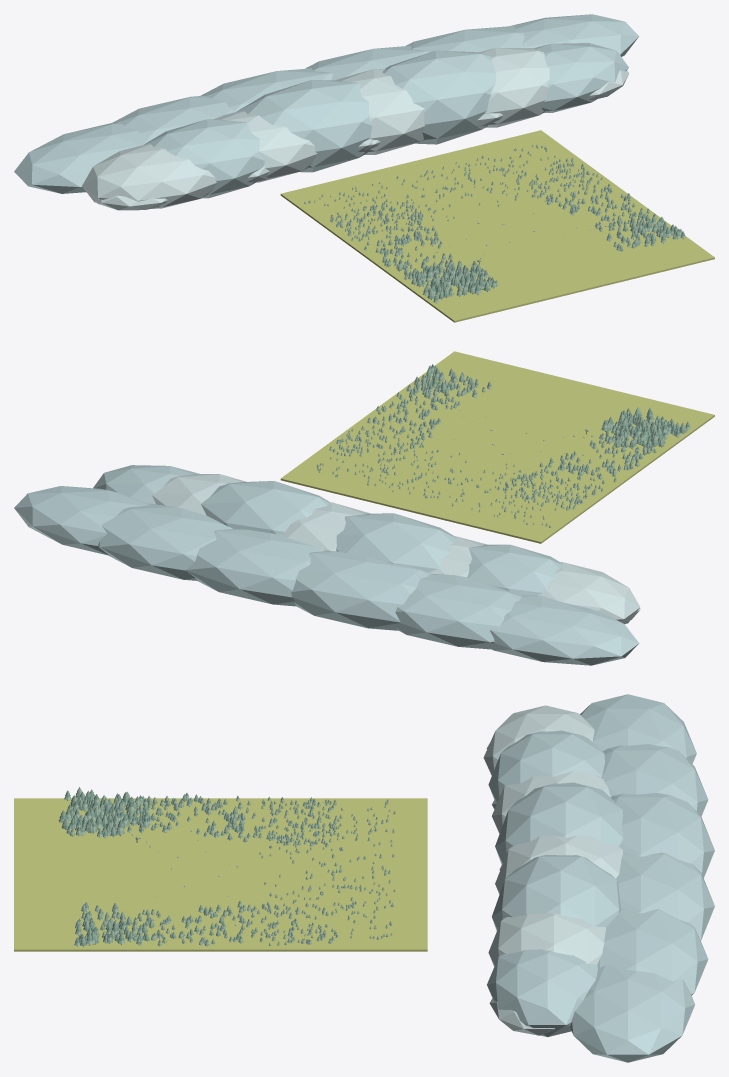
File: classic_reference_v24.glb
The picture shows the model from 3 angles, top to bottom: view 1: azimuth 30°, elevation 25°; view 2: azimuth 150°, elevation 25°; view 3: azimuth 270°, elevation 25°; orthographic projection. The views are drawn at different scales.
Parts seen in each view (by area): view 1: ValleyGround, PineForest, Mountain_03, Mountain_05, Mountain_00, Mountain_01, MountainBack_00, Mountain_07, Mountain_06, Mountain_04, MountainBack_05, Mountain_02 (+5 smaller); view 2: ValleyGround, PineForest, MountainBack_02, MountainBack_00, MountainBack_03, MountainBack_01, MountainBack_04, MountainBack_05, Mountain_03, Mountain_05, Mountain_01, Mountain_00 (+4 smaller); view 3: ValleyGround, PineForest, MountainBack_05, Mountain_05, Mountain_07, Mountain_03, MountainBack_04, MountainBack_02, MountainBack_03, MountainBack_01, MountainBack_00, Mountain_01 (+5 smaller).
Part boxes in pixels (box(x1,y1,x2,y2)): ValleyGround: box(280, 130, 714, 322); PineForest: box(304, 145, 685, 303); Mountain_03: box(236, 80, 372, 172); Mountain_05: box(382, 50, 496, 144); Mountain_00: box(82, 144, 217, 208); Mountain_01: box(144, 119, 264, 198); MountainBack_00: box(14, 123, 152, 193); Mountain_07: box(535, 43, 628, 112); Mountain_06: box(480, 48, 549, 127); Mountain_04: box(335, 69, 425, 154); MountainBack_05: box(509, 14, 638, 56); Mountain_02: box(214, 111, 317, 182); ValleyGround: box(280, 351, 714, 543); PineForest: box(316, 364, 690, 527); MountainBack_02: box(291, 551, 431, 630); MountainBack_00: box(490, 595, 639, 665); MountainBack_03: box(186, 528, 324, 606); MountainBack_01: box(395, 574, 521, 649); MountainBack_04: box(98, 504, 232, 580); MountainBack_05: box(14, 486, 149, 555); Mountain_03: box(336, 513, 458, 572); Mountain_05: box(201, 481, 329, 534); Mountain_01: box(467, 544, 562, 595); Mountain_00: box(537, 562, 640, 623); ValleyGround: box(14, 798, 427, 951); PineForest: box(58, 787, 395, 946); MountainBack_05: box(570, 965, 695, 1062); Mountain_05: box(492, 854, 620, 930); Mountain_07: box(487, 949, 597, 1037); Mountain_03: box(495, 782, 623, 864); MountainBack_04: box(597, 909, 708, 995); MountainBack_02: box(610, 793, 714, 877); MountainBack_03: box(616, 852, 714, 940); MountainBack_01: box(601, 744, 708, 816); MountainBack_00: box(580, 694, 696, 763); Mountain_01: box(488, 730, 605, 802).
Size of the model in its own units: 508 by 62 by 427.
